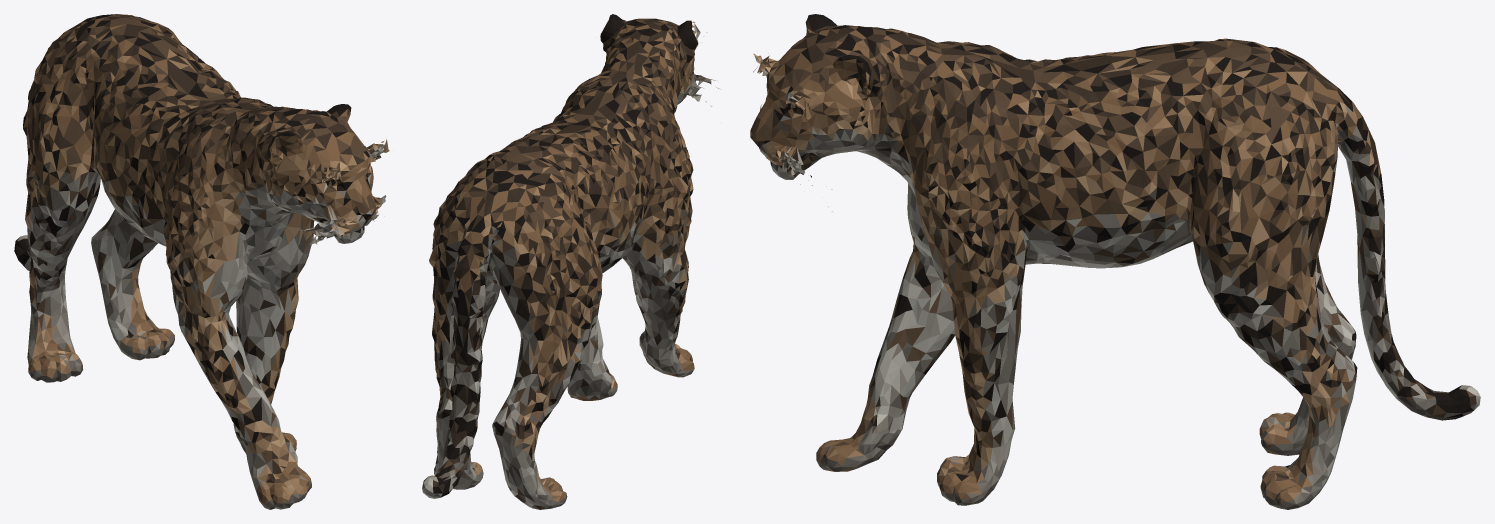
The model's file is panthera_pardus.glb.
3 views of the same model, side by side, from view 1: azimuth 30°, elevation 25°; view 2: azimuth 150°, elevation 25°; view 3: azimuth 270°, elevation 25° (orthographic). The views are drawn at different scales.
Parts seen in each view (by area): view 1: lod0; view 2: lod0; view 3: lod0.
Boxes of the visible parts, bbox=[...] form: lod0: bbox=[14, 14, 389, 509]; lod0: bbox=[422, 14, 720, 509]; lod0: bbox=[750, 14, 1480, 509].
Size of what is drawn, in the model's own units: 0.3561 by 0.716 by 1.04.
